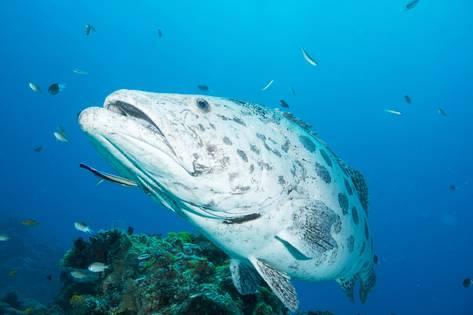Serranidae -Groupers-: (74, 81, 383, 314)
